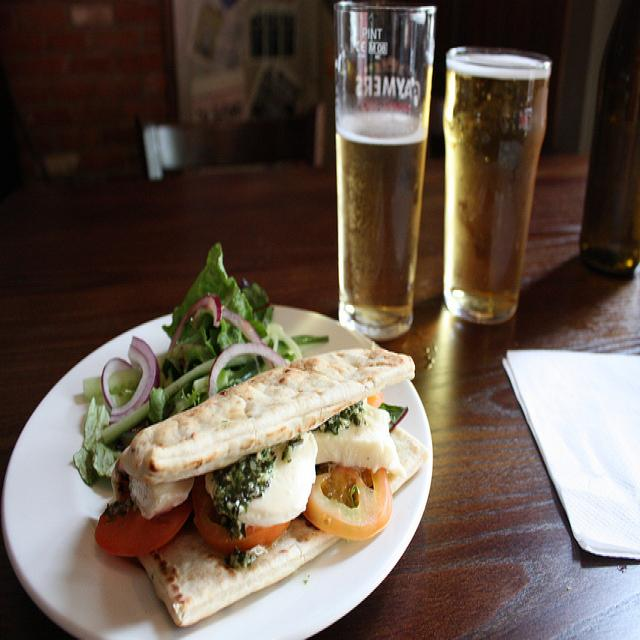chair: (137, 104, 328, 181)
dining table: (6, 3, 640, 632)
